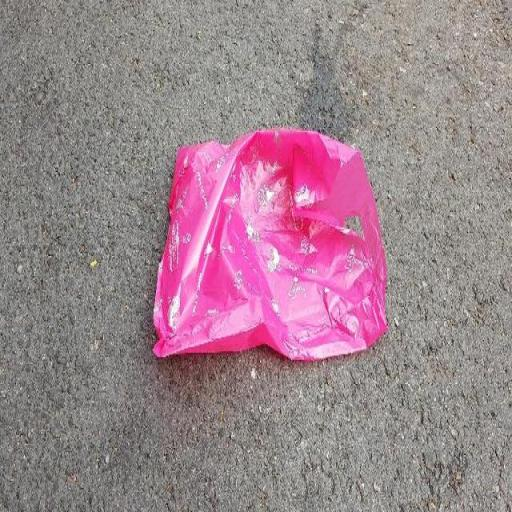plastic-bag: (148, 126, 388, 360)
